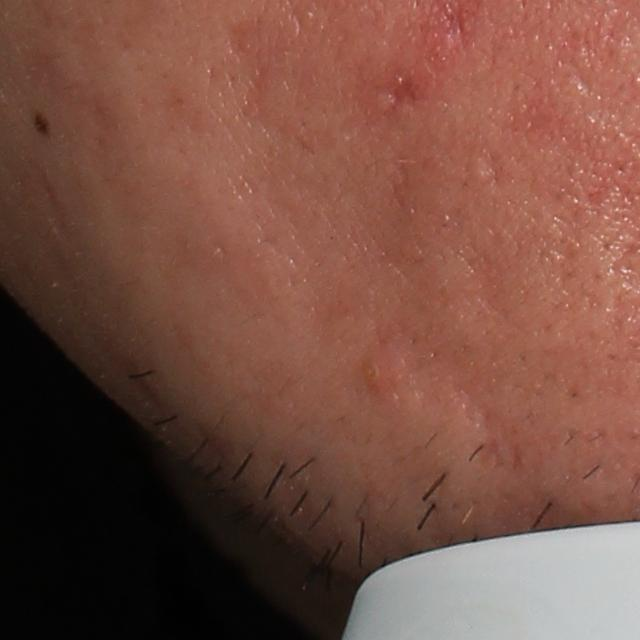atrophic_scar: (369, 65, 429, 119), (478, 141, 515, 196)
nevus: (31, 109, 54, 139)
